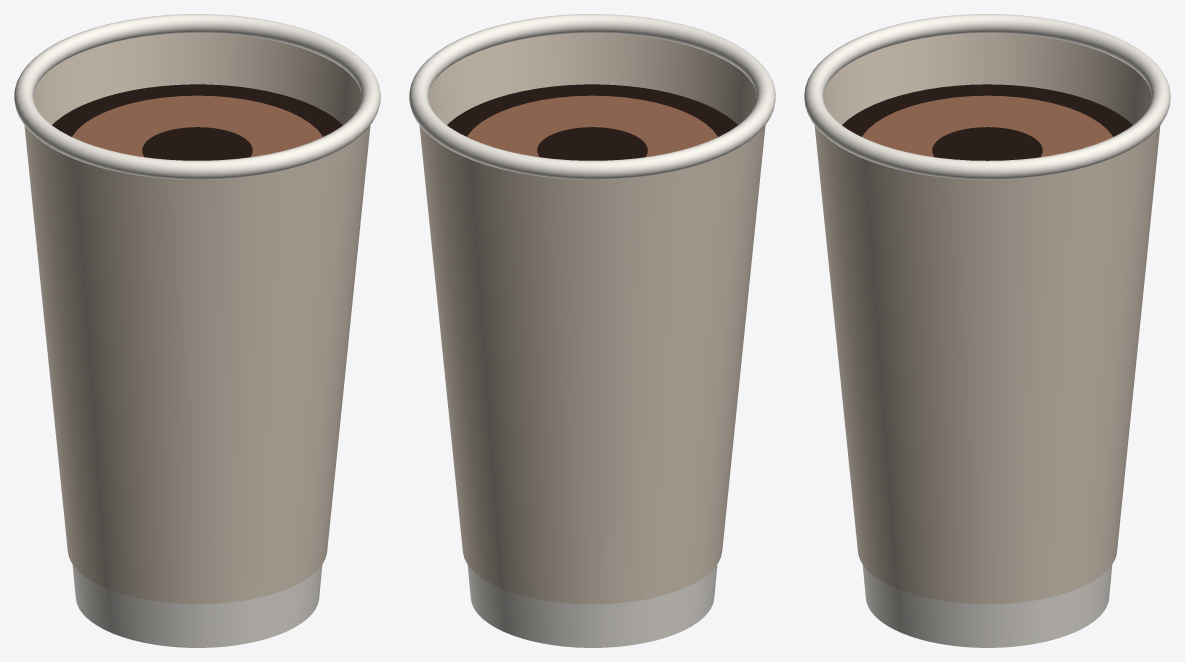
File: sip-brew-paper-cup.glb
3 renders of one model, left to right at view 1: azimuth 30°, elevation 25°; view 2: azimuth 150°, elevation 25°; view 3: azimuth 270°, elevation 25°, orthographic.
Visible parts, largest first — view 1: Cup_Outer_Sleeve, Cup_Rolled_Rim, Cup_Stepped_Base, Crema_Ring, Coffee_Surface; view 2: Cup_Outer_Sleeve, Cup_Rolled_Rim, Cup_Stepped_Base, Crema_Ring, Coffee_Surface; view 3: Cup_Outer_Sleeve, Cup_Rolled_Rim, Cup_Stepped_Base, Crema_Ring, Coffee_Surface.
Part boxes in pixels (x1=…): Cup_Outer_Sleeve: x1=24, y1=33, x2=370, y2=604; Cup_Rolled_Rim: x1=14, y1=14, x2=380, y2=179; Cup_Stepped_Base: x1=72, y1=565, x2=322, y2=647; Crema_Ring: x1=72, y1=95, x2=322, y2=157; Coffee_Surface: x1=52, y1=84, x2=342, y2=160; Cup_Outer_Sleeve: x1=419, y1=33, x2=765, y2=604; Cup_Rolled_Rim: x1=409, y1=14, x2=775, y2=179; Cup_Stepped_Base: x1=467, y1=565, x2=717, y2=647; Crema_Ring: x1=467, y1=95, x2=717, y2=157; Coffee_Surface: x1=447, y1=84, x2=737, y2=160; Cup_Outer_Sleeve: x1=814, y1=33, x2=1160, y2=604; Cup_Rolled_Rim: x1=804, y1=14, x2=1170, y2=179; Cup_Stepped_Base: x1=862, y1=565, x2=1112, y2=647; Crema_Ring: x1=862, y1=95, x2=1112, y2=156; Coffee_Surface: x1=842, y1=84, x2=1132, y2=160.
Size of the model in its own units: 0.918 by 1.4 by 0.918.
